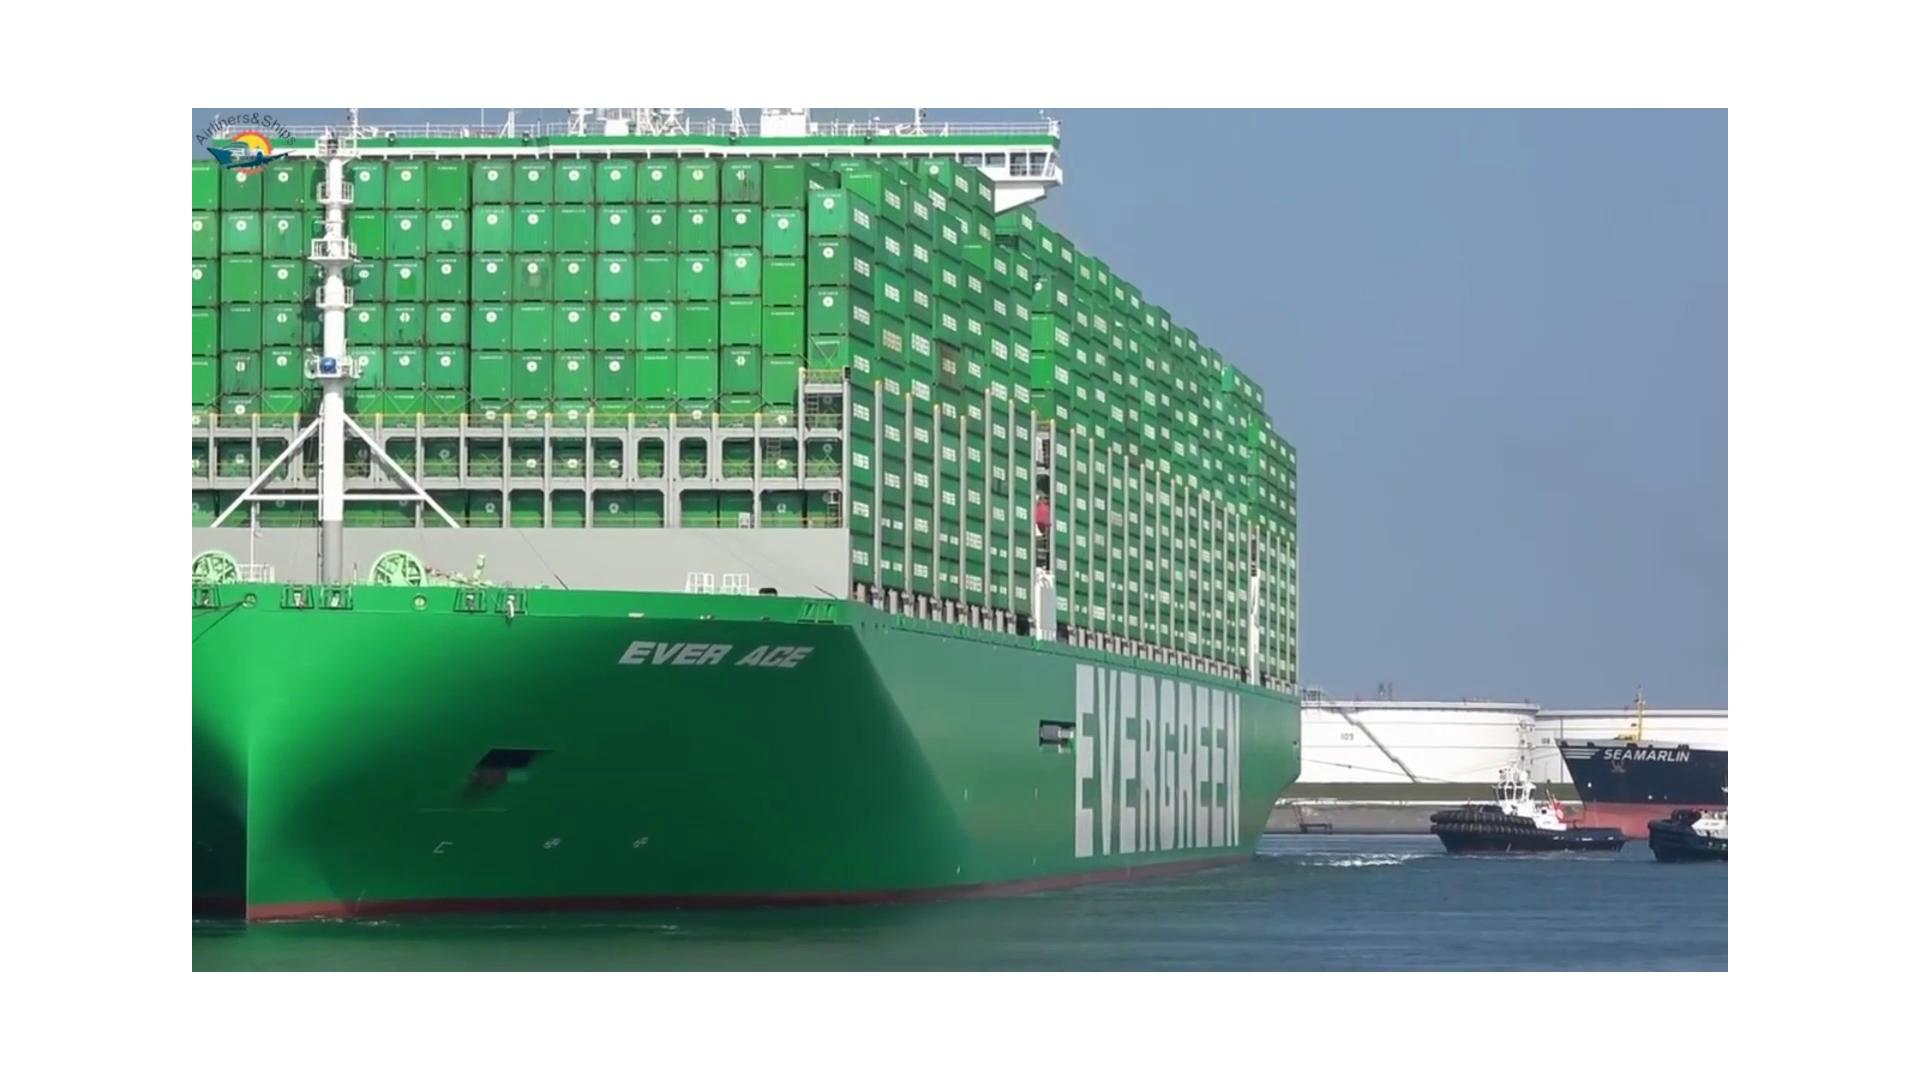OCR: (1050, 640, 1269, 882), (583, 595, 835, 702)
